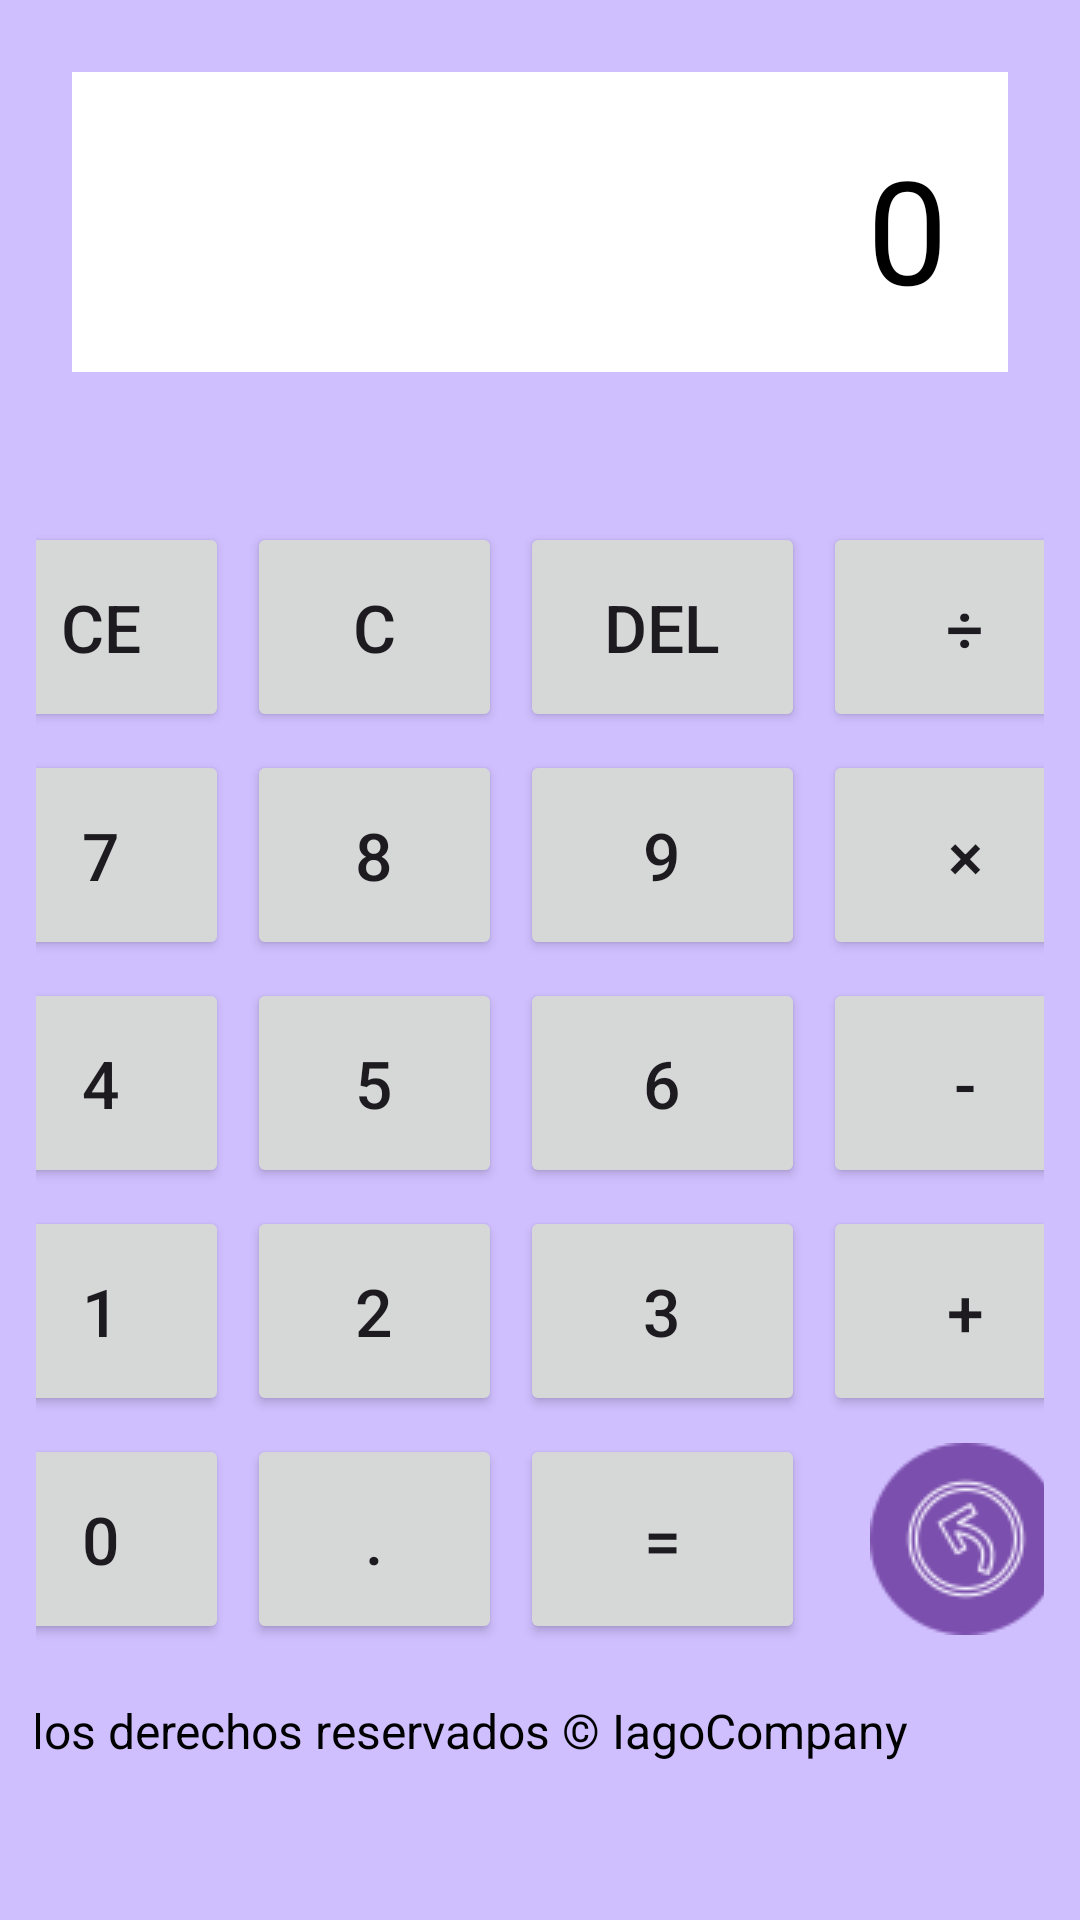

Locate icon controls on the screen. Image size 1080px×1920px, boxes as (x1, y1, x2, y2).
deshacer: (870, 1443, 1044, 1635)
